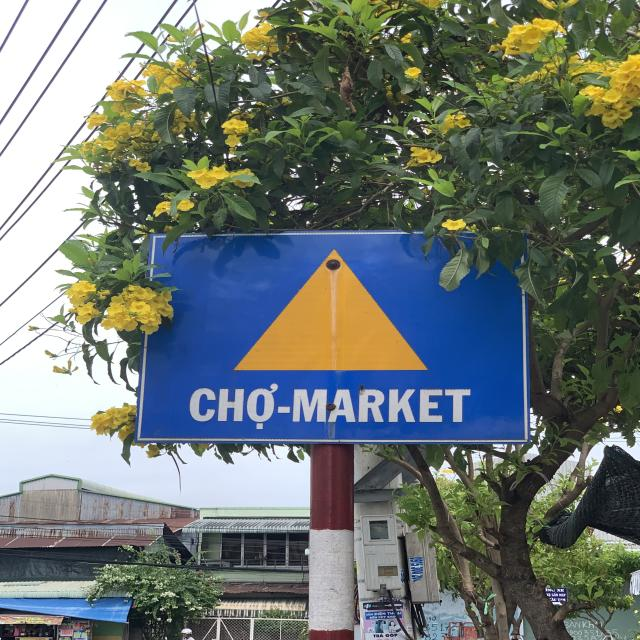Cho_Quay_Xe: (146, 231, 528, 444)
